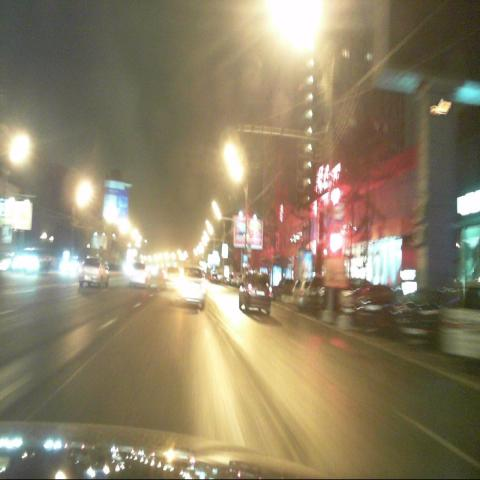5_16: (335, 203, 343, 223)
